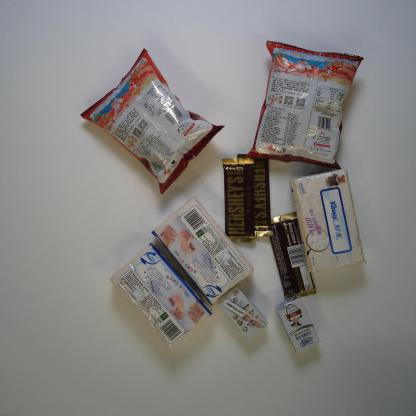Chocolate: (220, 152, 274, 244), (265, 211, 317, 300), (235, 154, 276, 236)
Milk: (216, 284, 268, 343), (274, 294, 322, 356)
Puffed Food: (78, 47, 226, 199), (244, 37, 366, 170)
Tissue: (109, 242, 214, 350), (152, 195, 253, 304), (289, 168, 367, 275)
